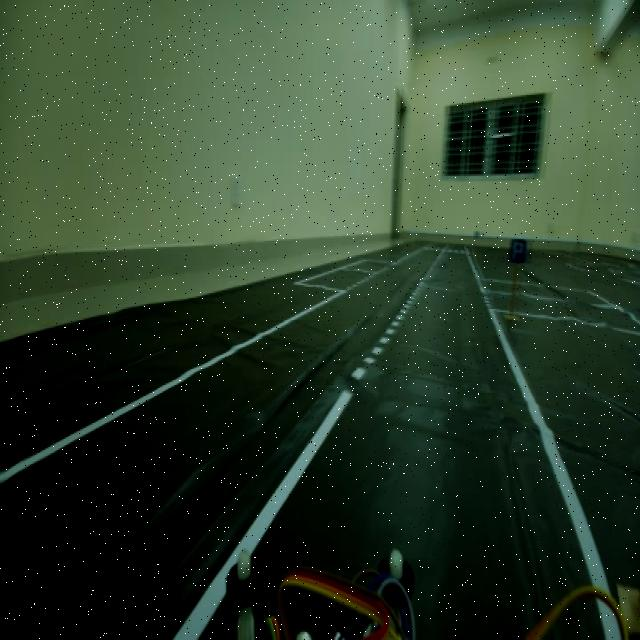parking: (504, 225, 530, 271)
